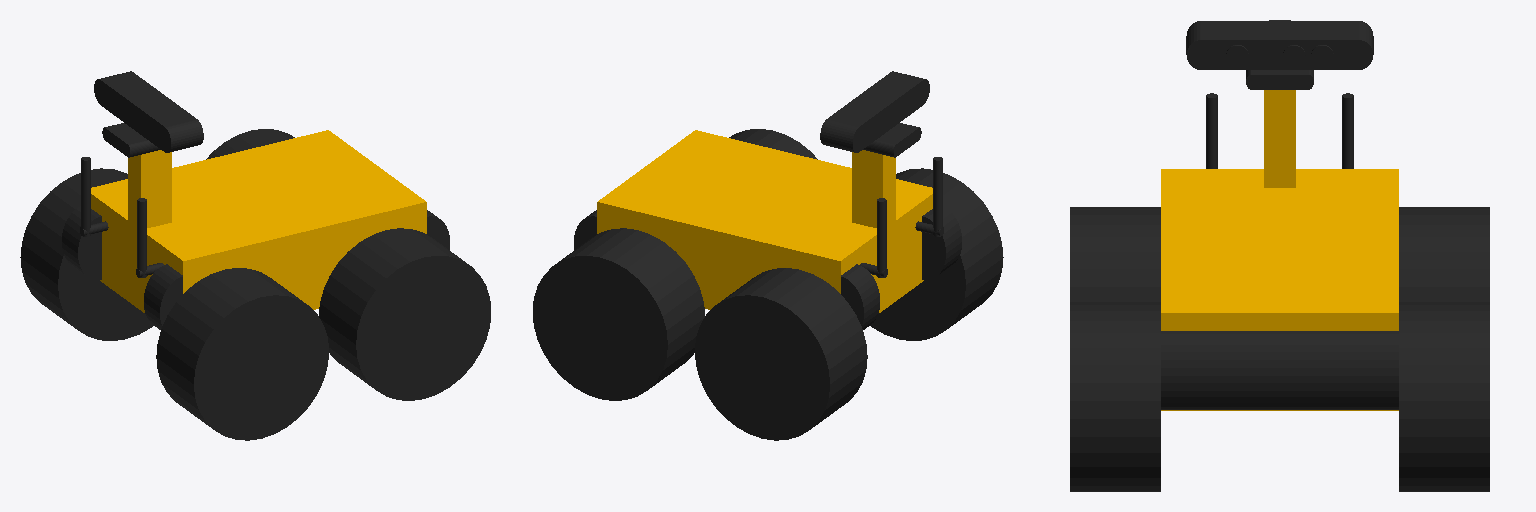
The robot description file, URDF, robot "RoboRaider":
<robot name="RoboRaider">

    <link name="base_link">
        <!-- main body -->
        <visual>
            <geometry>
                <mesh filename="package://roboraider/description/RoboRaiderGeometry_body.stl"/>
            </geometry>
            <material name="yellow">
                <color rgba="1.0 0.75 0 1"/>
            </material>
            <origin xyz="0 0 0.0935" rpy="0 0 0" />
        </visual>
        
        <!-- bumper -->
        <visual>
            <geometry>
                <mesh filename="package://roboraider/description/RoboRaiderGeometry_bumper.stl"/>
            </geometry>
            <material name="grey">
                <color rgba="0.2 0.2 0.2 1.0"/>
            </material>
            <origin xyz="0 0 0.0935" rpy="0 0 0" />
        </visual>
        
        <!-- wheels -->
        <visual>
            <geometry>
                <mesh filename="package://roboraider/description/RoboRaiderGeometry_wheels.stl"/>
            </geometry>
            <material name="grey">
                <color rgba="0.2 0.2 0.2 1.0"/>
            </material>
            <origin xyz="0 0 0.0835" rpy="0 0 0" />
        </visual>
        
        <!-- Orbbec sensor -->
        <visual>
            <geometry>
                <mesh filename="package://roboraider/description/RoboRaiderGeometry_orbbec.stl"/>
            </geometry>
            <material name="grey">
                <color rgba="0.2 0.2 0.2 1.0"/>
            </material>
            <origin xyz="-0.112 0 0.2835" rpy="0 0 0" />
        </visual>
        
        <!-- rplidar sensor 
        <visual>
            <geometry>
                <mesh filename="package://roboraider/description/rplidar-a2m4-r1.stl"/>
            </geometry>
            <material name="darkgrey">
                <color rgba="0.2 0.2 0.2 1.0"/>
            </material>
            <origin xyz="0 0 0.1885" rpy="0 0 0"/>
        </visual>
        -->
        <collision>
            <geometry>
                <box size="0.360 0.380 0.330" />
            </geometry>
            <origin xyz="0 0 0.165" rpy="0 0 0" />
        </collision>
    </link>
    
    <link name="rplidar_sensor_frame">
    </link>
    
    <link name="orbbec_sensor_frame">
    </link>
    
    <link name="sonar_sensor_frame">
    </link>
    
        
    <joint name="base_to_rplidar_sensor_frame" type="fixed">
        <parent link="base_link"/>
        <child  link="rplidar_sensor_frame"/>
        <origin xyz="0.075 0 0.2193" rpy="0 0 3.1415927"/>
    </joint>
    
    <joint name="base_to_orbbec_sensor_frame" type="fixed">
        <parent link="base_link"/>
        <child  link="orbbec_sensor_frame"/>
        <origin xyz="-0.112 0.0375 0.3175"/>
    </joint>
    
    <joint name="base_to_sonar_sensor_frame" type="fixed">
        <parent link="base_link"/>
        <child  link="sonar_sensor_frame"/>
        <origin xyz="0.16 0.0 0.065"/>
    </joint>
       
</robot>

--- Render facts (derived) ---
Views: 3 orthographic renders of the robot side by side, from view 1: azimuth 30°, elevation 25°; view 2: azimuth 150°, elevation 25°; view 3: azimuth 270°, elevation 25°.
Model RoboRaider with 4 links and 3 joints (3 fixed), rooted at base_link, posed every joint at zero.
Links seen in each view (by area): view 1: base_link; view 2: base_link; view 3: base_link.
Boxes of the visible links, x1,y1,x2,y2 form: base_link: (20,71,490,440); base_link: (533,71,1003,440); base_link: (1070,20,1489,491).
Size in the robot's own frame: 0.367 by 0.37 by 0.3325 metres.
Meshes: 4 distinct files referenced, 4 mesh visuals loaded (4 binary STL).